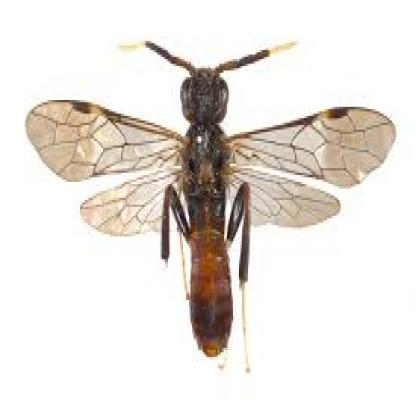sawfly: (27, 40, 397, 370)
